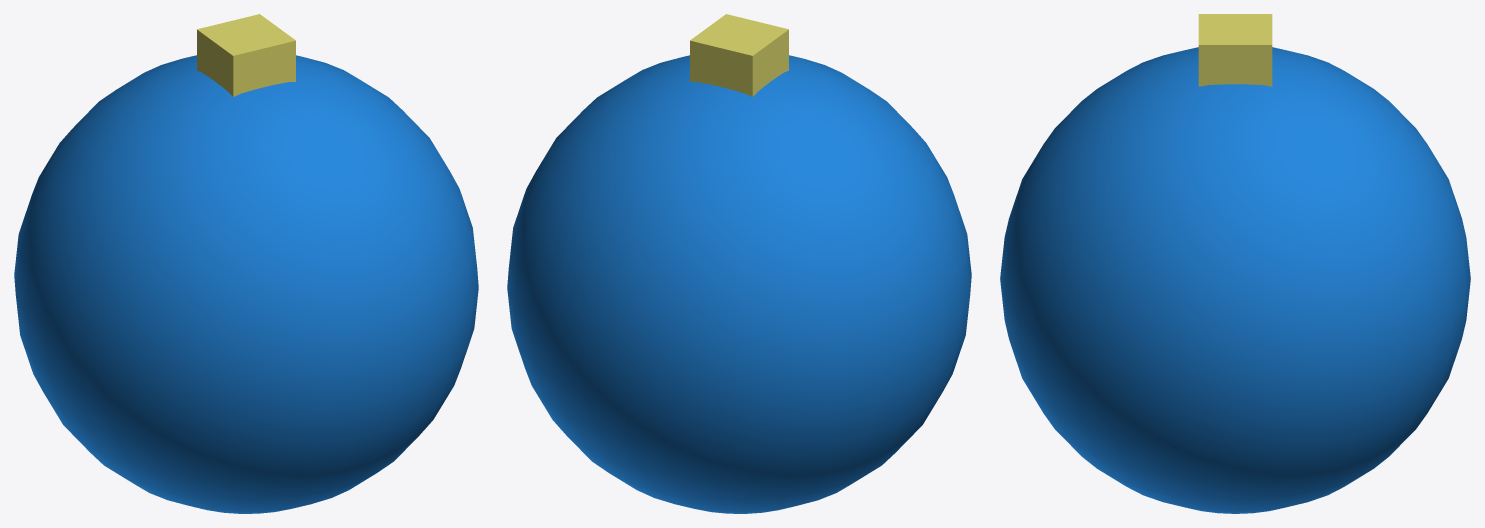
Rendered from websitedemo.glb.
3 views of the same model, side by side, from view 1: azimuth 30°, elevation 25°; view 2: azimuth 150°, elevation 25°; view 3: azimuth 270°, elevation 25° (orthographic).
Parts seen in each view (by area): view 1: Sphere, Cube; view 2: Sphere, Cube; view 3: Sphere, Cube.
Part boxes in pixels (x1,y1,x2,y2): Sphere: (14,55,478,513); Cube: (197,14,295,96); Sphere: (507,55,971,513); Cube: (690,14,788,96); Sphere: (1000,47,1470,513); Cube: (1198,14,1272,86).
Size of the model in its own units: 3.35 by 3.63 by 3.35.
